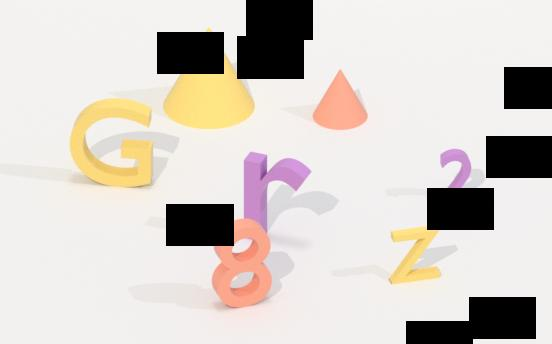8: (208, 214, 276, 314)
G-hoa: (69, 93, 156, 190)
R: (240, 148, 314, 236)
non: (162, 26, 257, 135), (310, 67, 371, 136), (438, 147, 478, 205)
z: (383, 220, 446, 293)
